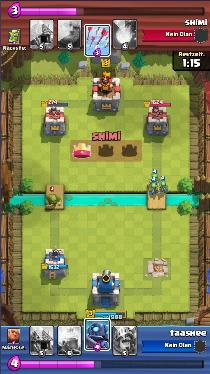ally_goblin_cage: (44, 194, 62, 208)
enemy_spear_goblin: (149, 181, 158, 196), (149, 172, 159, 184), (158, 180, 167, 193)
